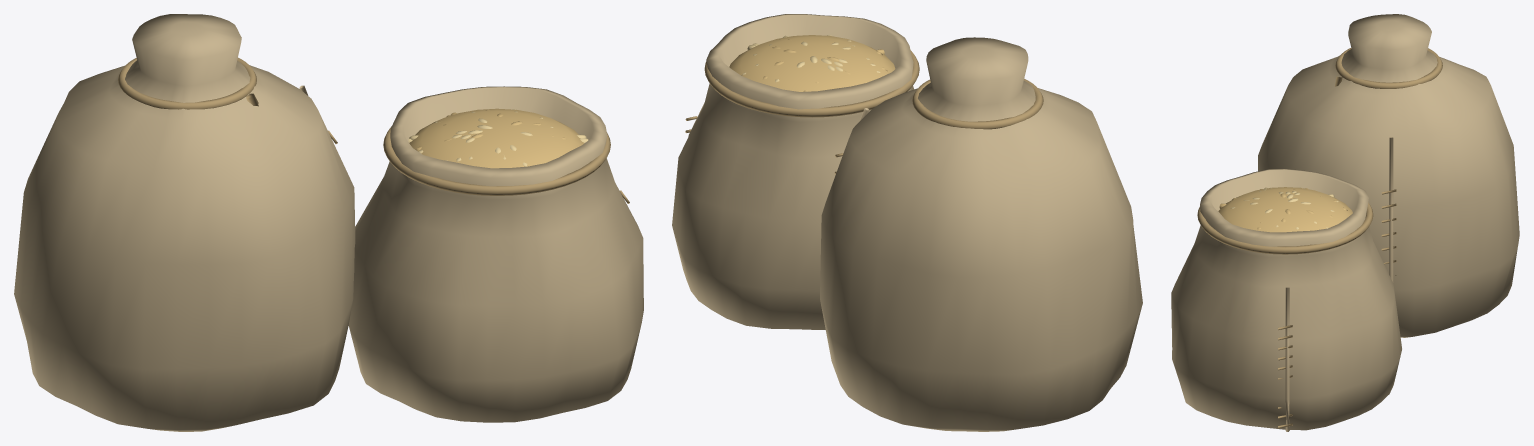
Rendered from grain.glb.
3 views of the same model, side by side, from view 1: azimuth 30°, elevation 25°; view 2: azimuth 150°, elevation 25°; view 3: azimuth 270°, elevation 25° (orthographic). The views are drawn at different scales.
Parts seen in each view (by area): view 1: Cargo_grain; view 2: Cargo_grain; view 3: Cargo_grain.
Part boxes in pixels (x1=…): Cargo_grain: x1=14, y1=14, x2=643, y2=431; Cargo_grain: x1=672, y1=14, x2=1142, y2=431; Cargo_grain: x1=1171, y1=14, x2=1519, y2=431.
Size of the model in its own units: 1.03 by 0.6829 by 0.7728.
